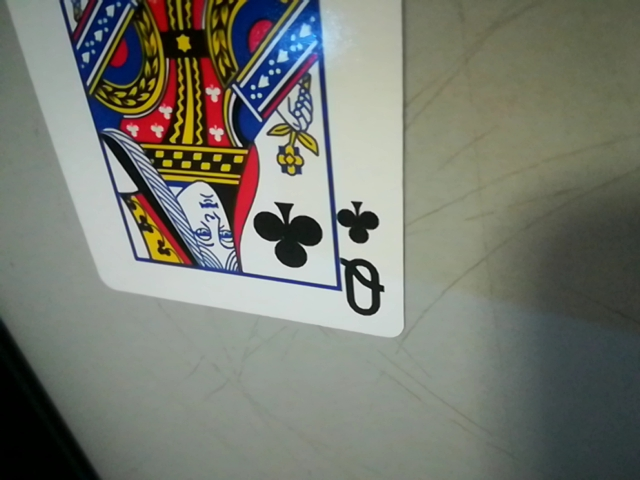mh q: (328, 195, 398, 326)
